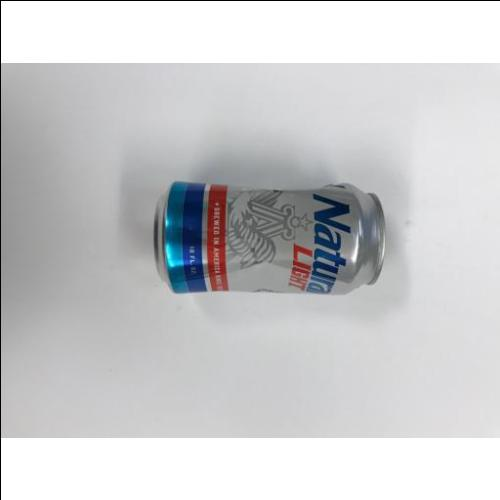metal: (157, 181, 386, 296)
